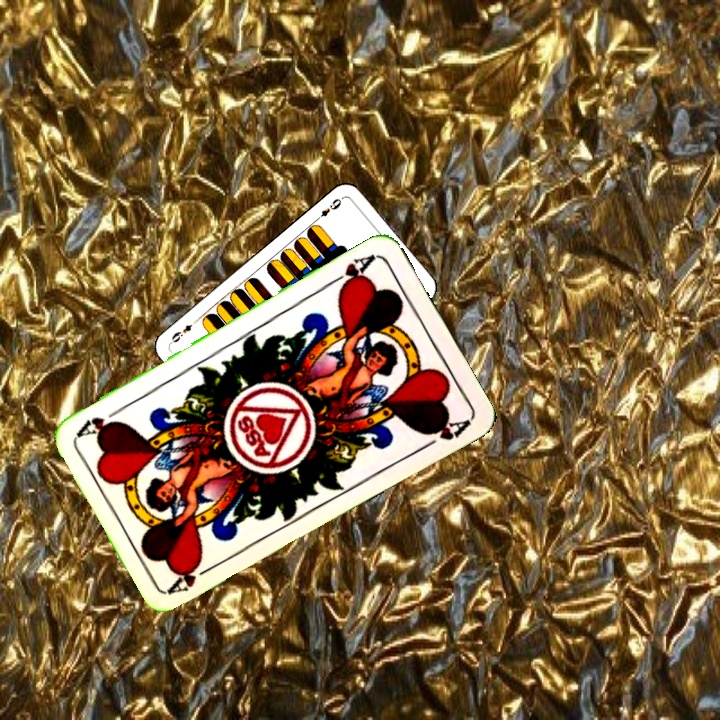E9: (311, 194, 344, 224)
HA: (324, 250, 378, 294), (164, 555, 219, 597)
